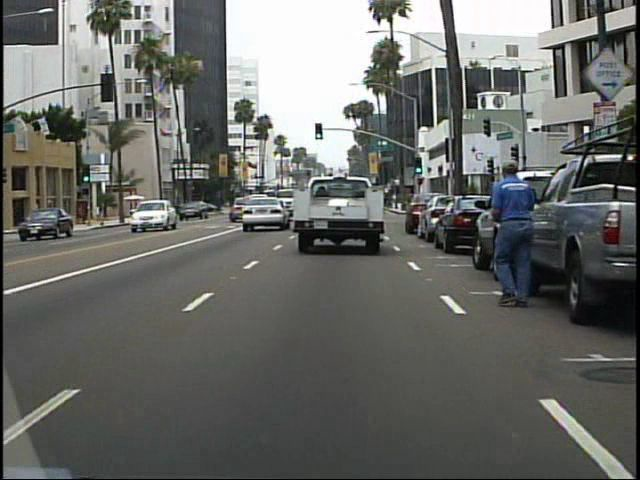person: (480, 154, 545, 313)
